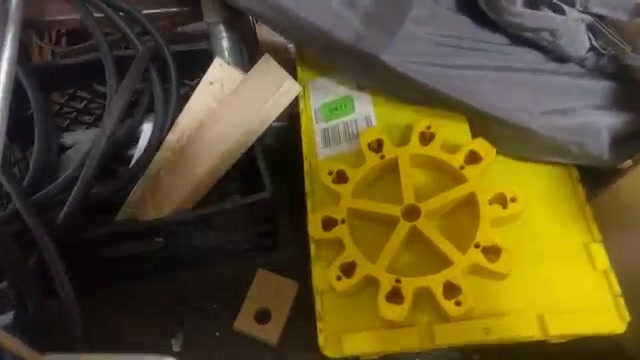gear: (298, 113, 538, 332)
